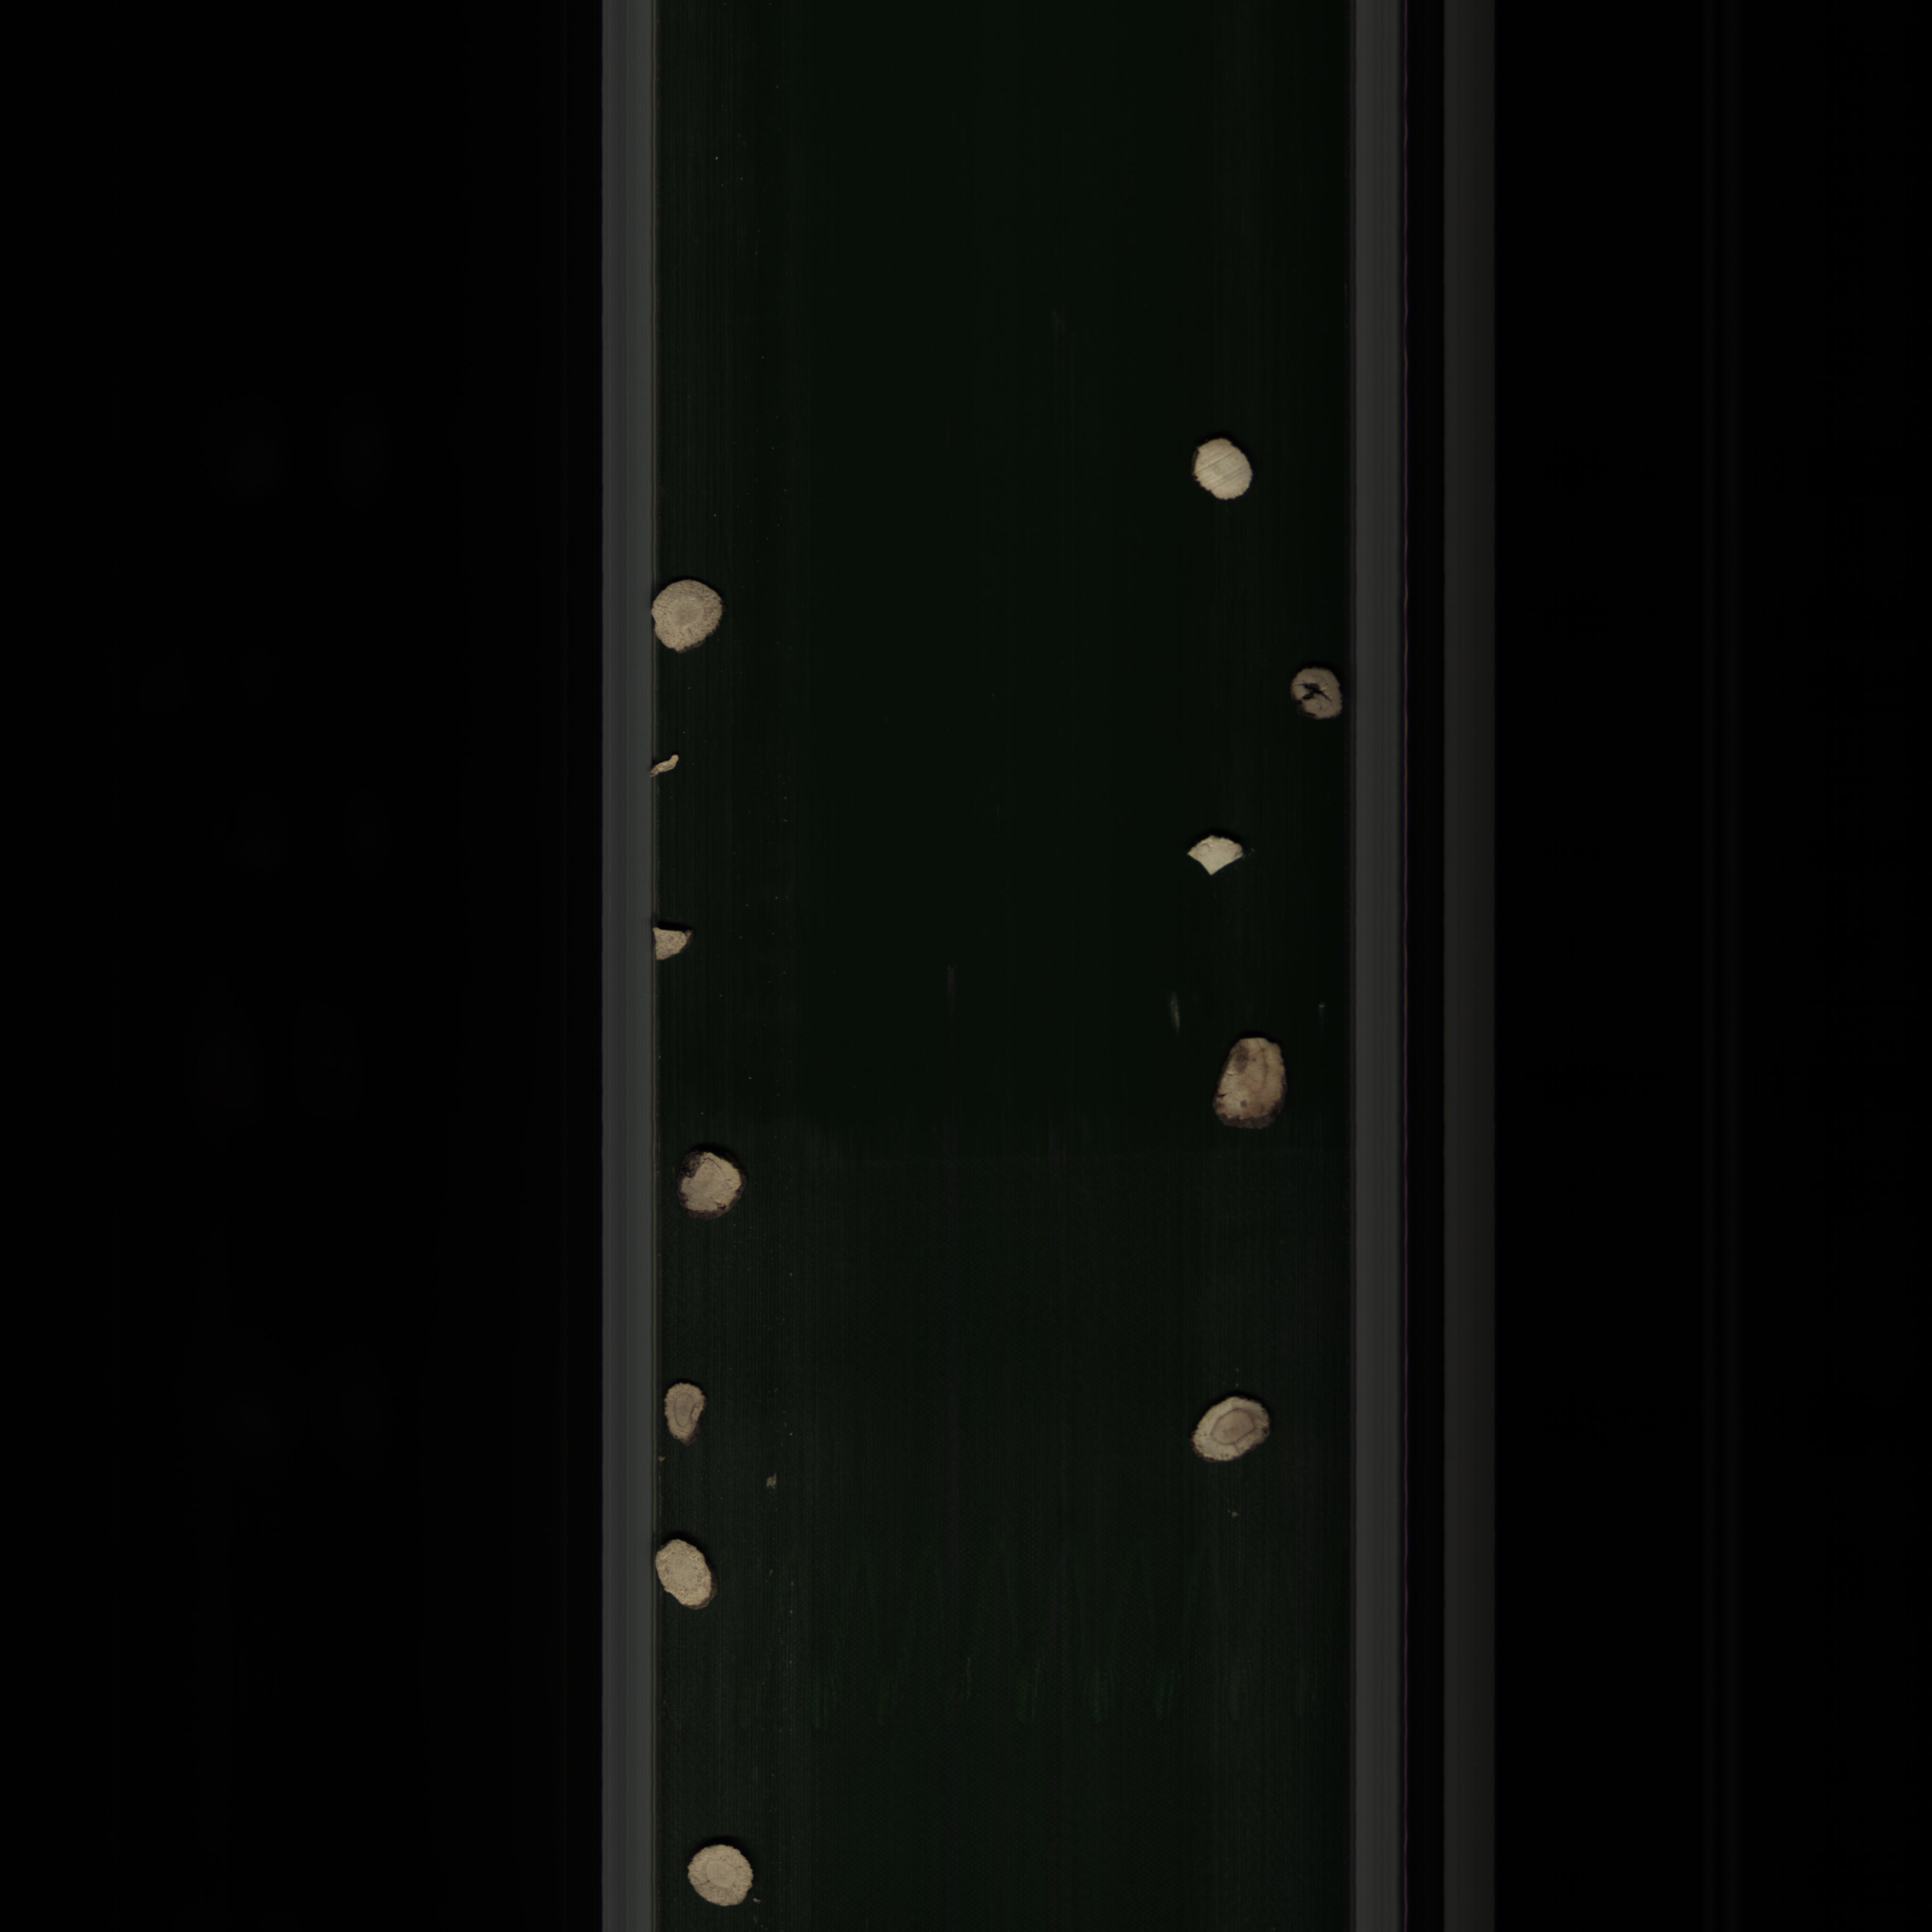bark: (649, 748, 692, 775)
debris: (1178, 830, 1258, 890), (639, 920, 695, 962)
moldy: (1203, 1031, 1286, 1136), (1191, 1385, 1277, 1472), (1286, 660, 1350, 724), (658, 1380, 706, 1454)
